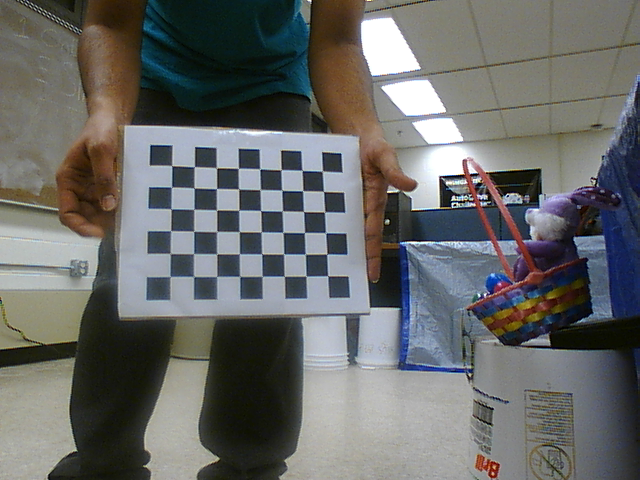bunny: (452, 154, 604, 345)
